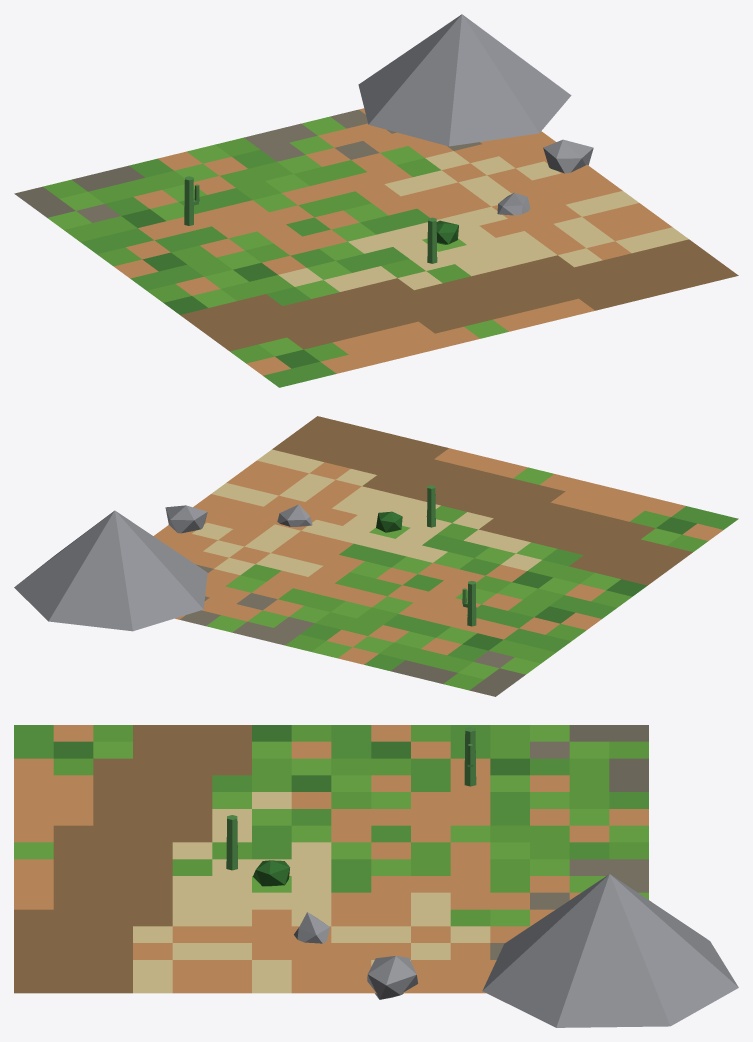
The model's file is chunk_8_20.glb.
3 views of the same model, one above another, from view 1: azimuth 30°, elevation 25°; view 2: azimuth 150°, elevation 25°; view 3: azimuth 270°, elevation 25° (orthographic). The views are drawn at different scales.
Visible parts, largest first — view 1: chunk_8_20; view 2: chunk_8_20; view 3: chunk_8_20.
Part boxes in pixels (<box>): chunk_8_20: <box>14,14,738,387</box>; chunk_8_20: <box>14,416,738,696</box>; chunk_8_20: <box>14,725,738,1027</box>.
Bounding box in the file's own units: 18.06 × 3.24 × 18.27.
